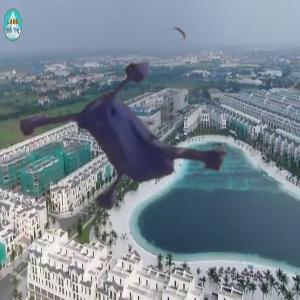drone: (42, 20, 270, 248)
